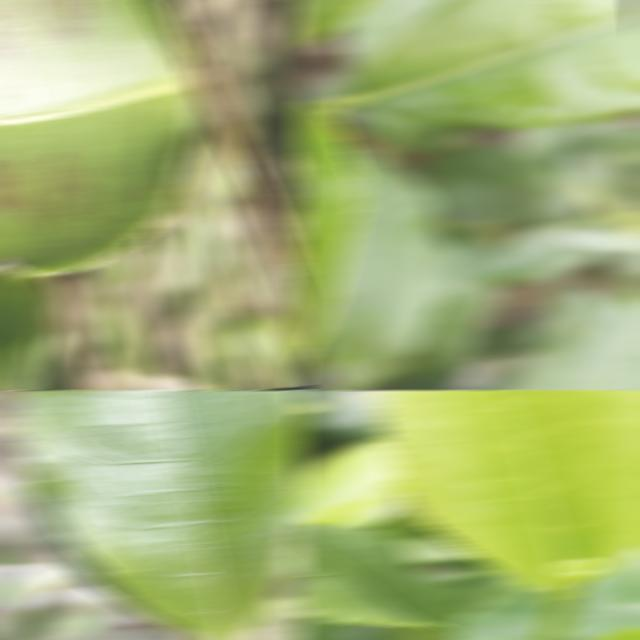Leaf: (12, 390, 306, 640), (0, 0, 197, 273), (376, 390, 640, 590), (345, 0, 640, 127), (311, 143, 454, 390), (294, 521, 471, 640), (294, 100, 368, 368), (423, 146, 586, 227), (294, 438, 408, 528), (554, 283, 640, 390), (93, 256, 152, 385), (0, 272, 59, 390), (154, 207, 202, 334), (187, 291, 246, 390), (498, 338, 581, 390), (3, 329, 68, 390)
